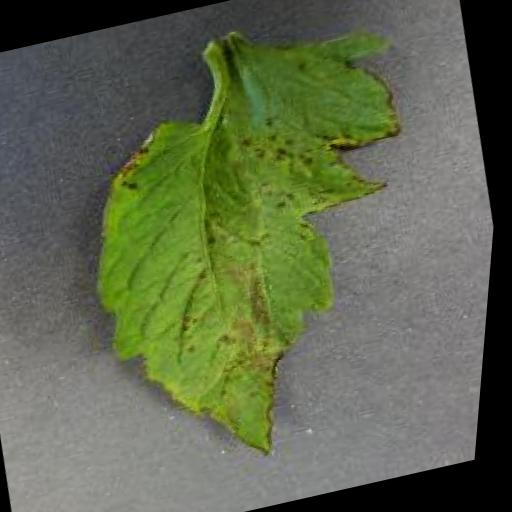Bacterial Spot: (40, 12, 494, 490)
